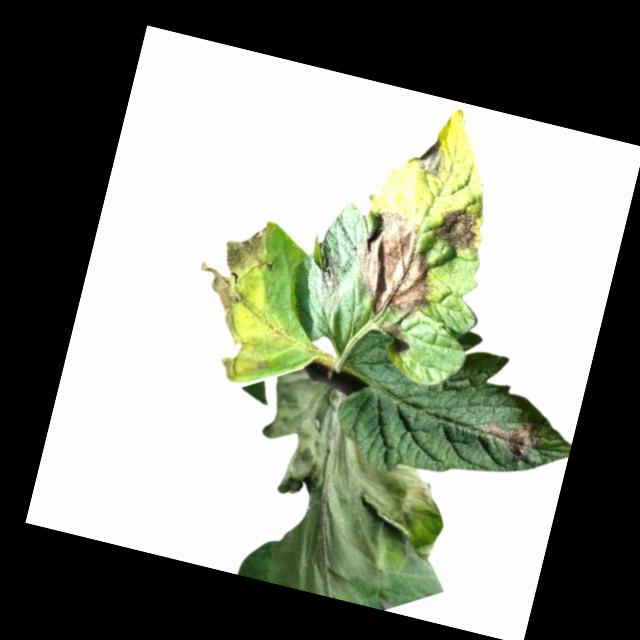Late_blight: (208, 362, 469, 583), (176, 208, 318, 388), (347, 205, 447, 328), (307, 242, 353, 312), (477, 413, 540, 461), (429, 200, 483, 255), (416, 138, 450, 183), (383, 321, 407, 340)
